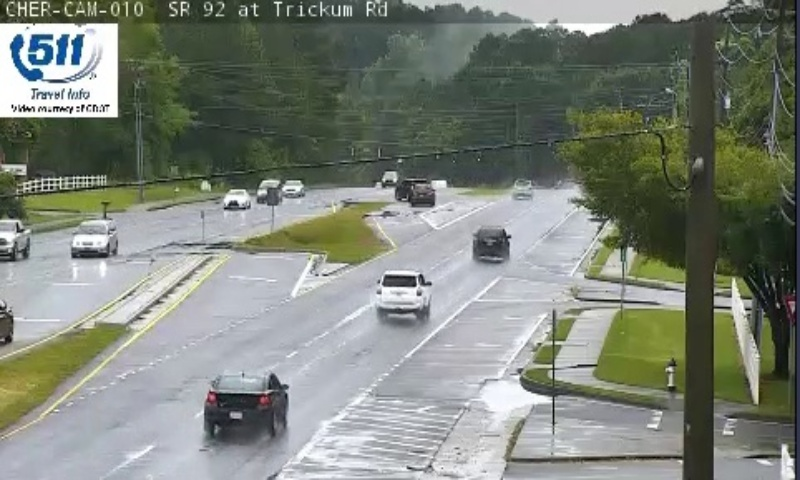car: (204, 369, 288, 424), (376, 270, 431, 313), (472, 225, 510, 261)
